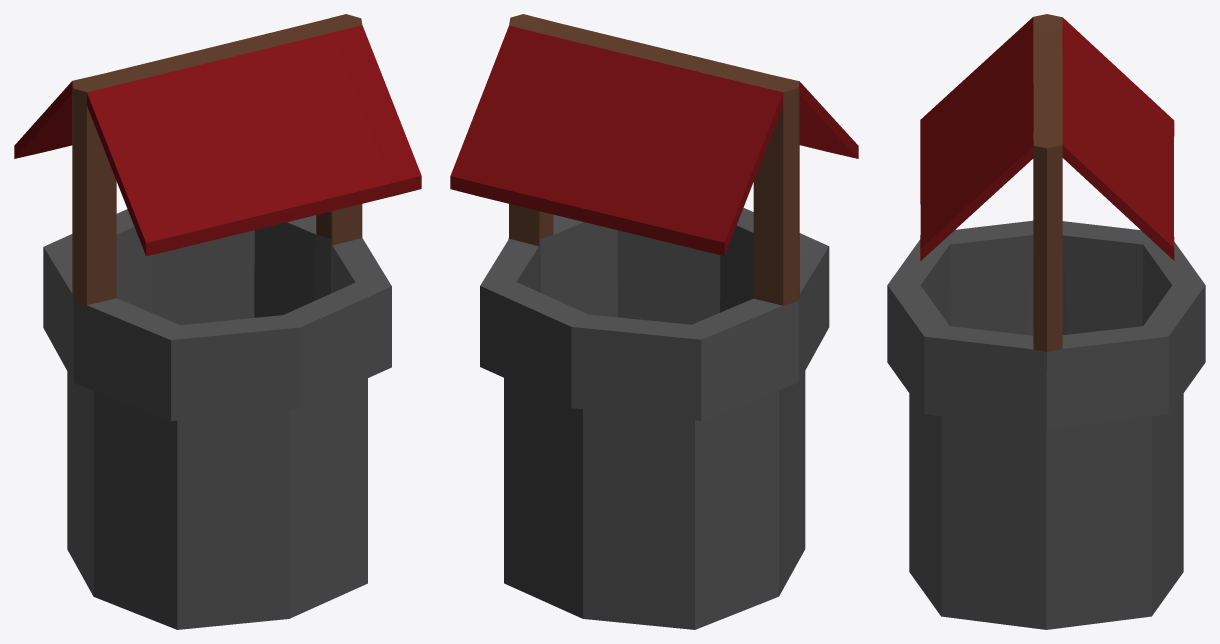
File: Well.fbx
3 views of the same model, side by side, from view 1: azimuth 30°, elevation 25°; view 2: azimuth 150°, elevation 25°; view 3: azimuth 270°, elevation 25° (orthographic). The views are drawn at different scales.
Visible parts, largest first — view 1: Cube; view 2: Cube; view 3: Cube.
Boxes of the visible parts, left/top/right/bottom form: Cube: left=14, top=14, right=421, bottom=629; Cube: left=450, top=14, right=858, bottom=629; Cube: left=887, top=14, right=1205, bottom=629.
Bounding box in the file's own units: 232 × 395 × 232.
